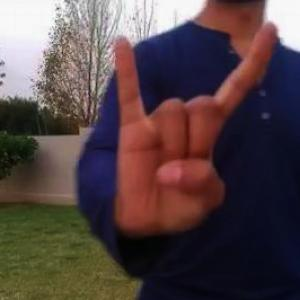takeoff-hand: (107, 13, 282, 235)
